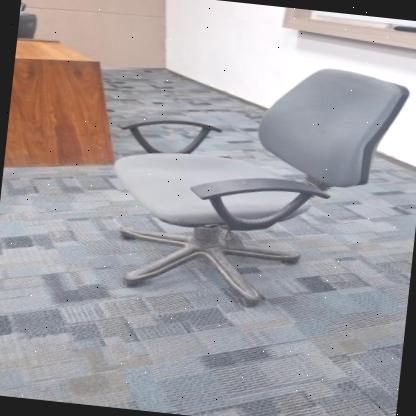chair: (83, 36, 416, 326)
